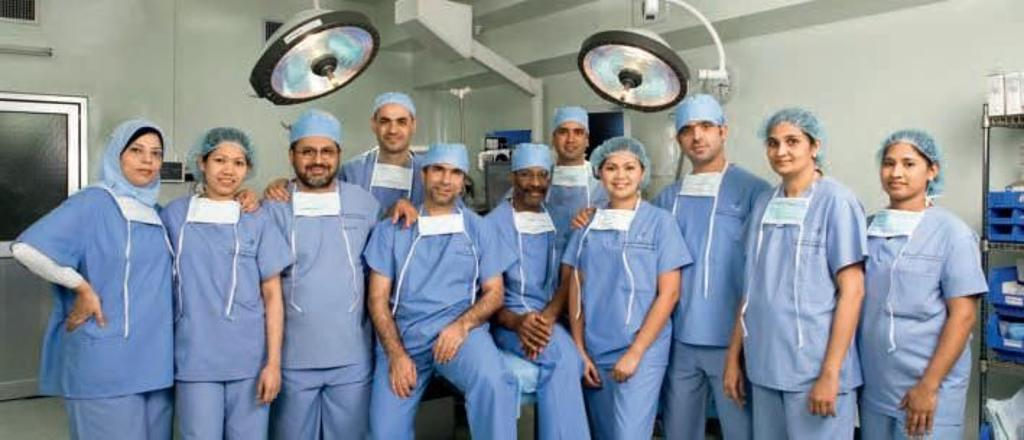face: (880, 143, 926, 198), (766, 121, 811, 175), (294, 131, 338, 185), (205, 143, 248, 195), (121, 133, 162, 185), (679, 112, 721, 162), (599, 150, 641, 198), (375, 102, 412, 152), (425, 157, 464, 204), (515, 160, 551, 204), (554, 120, 586, 158)
